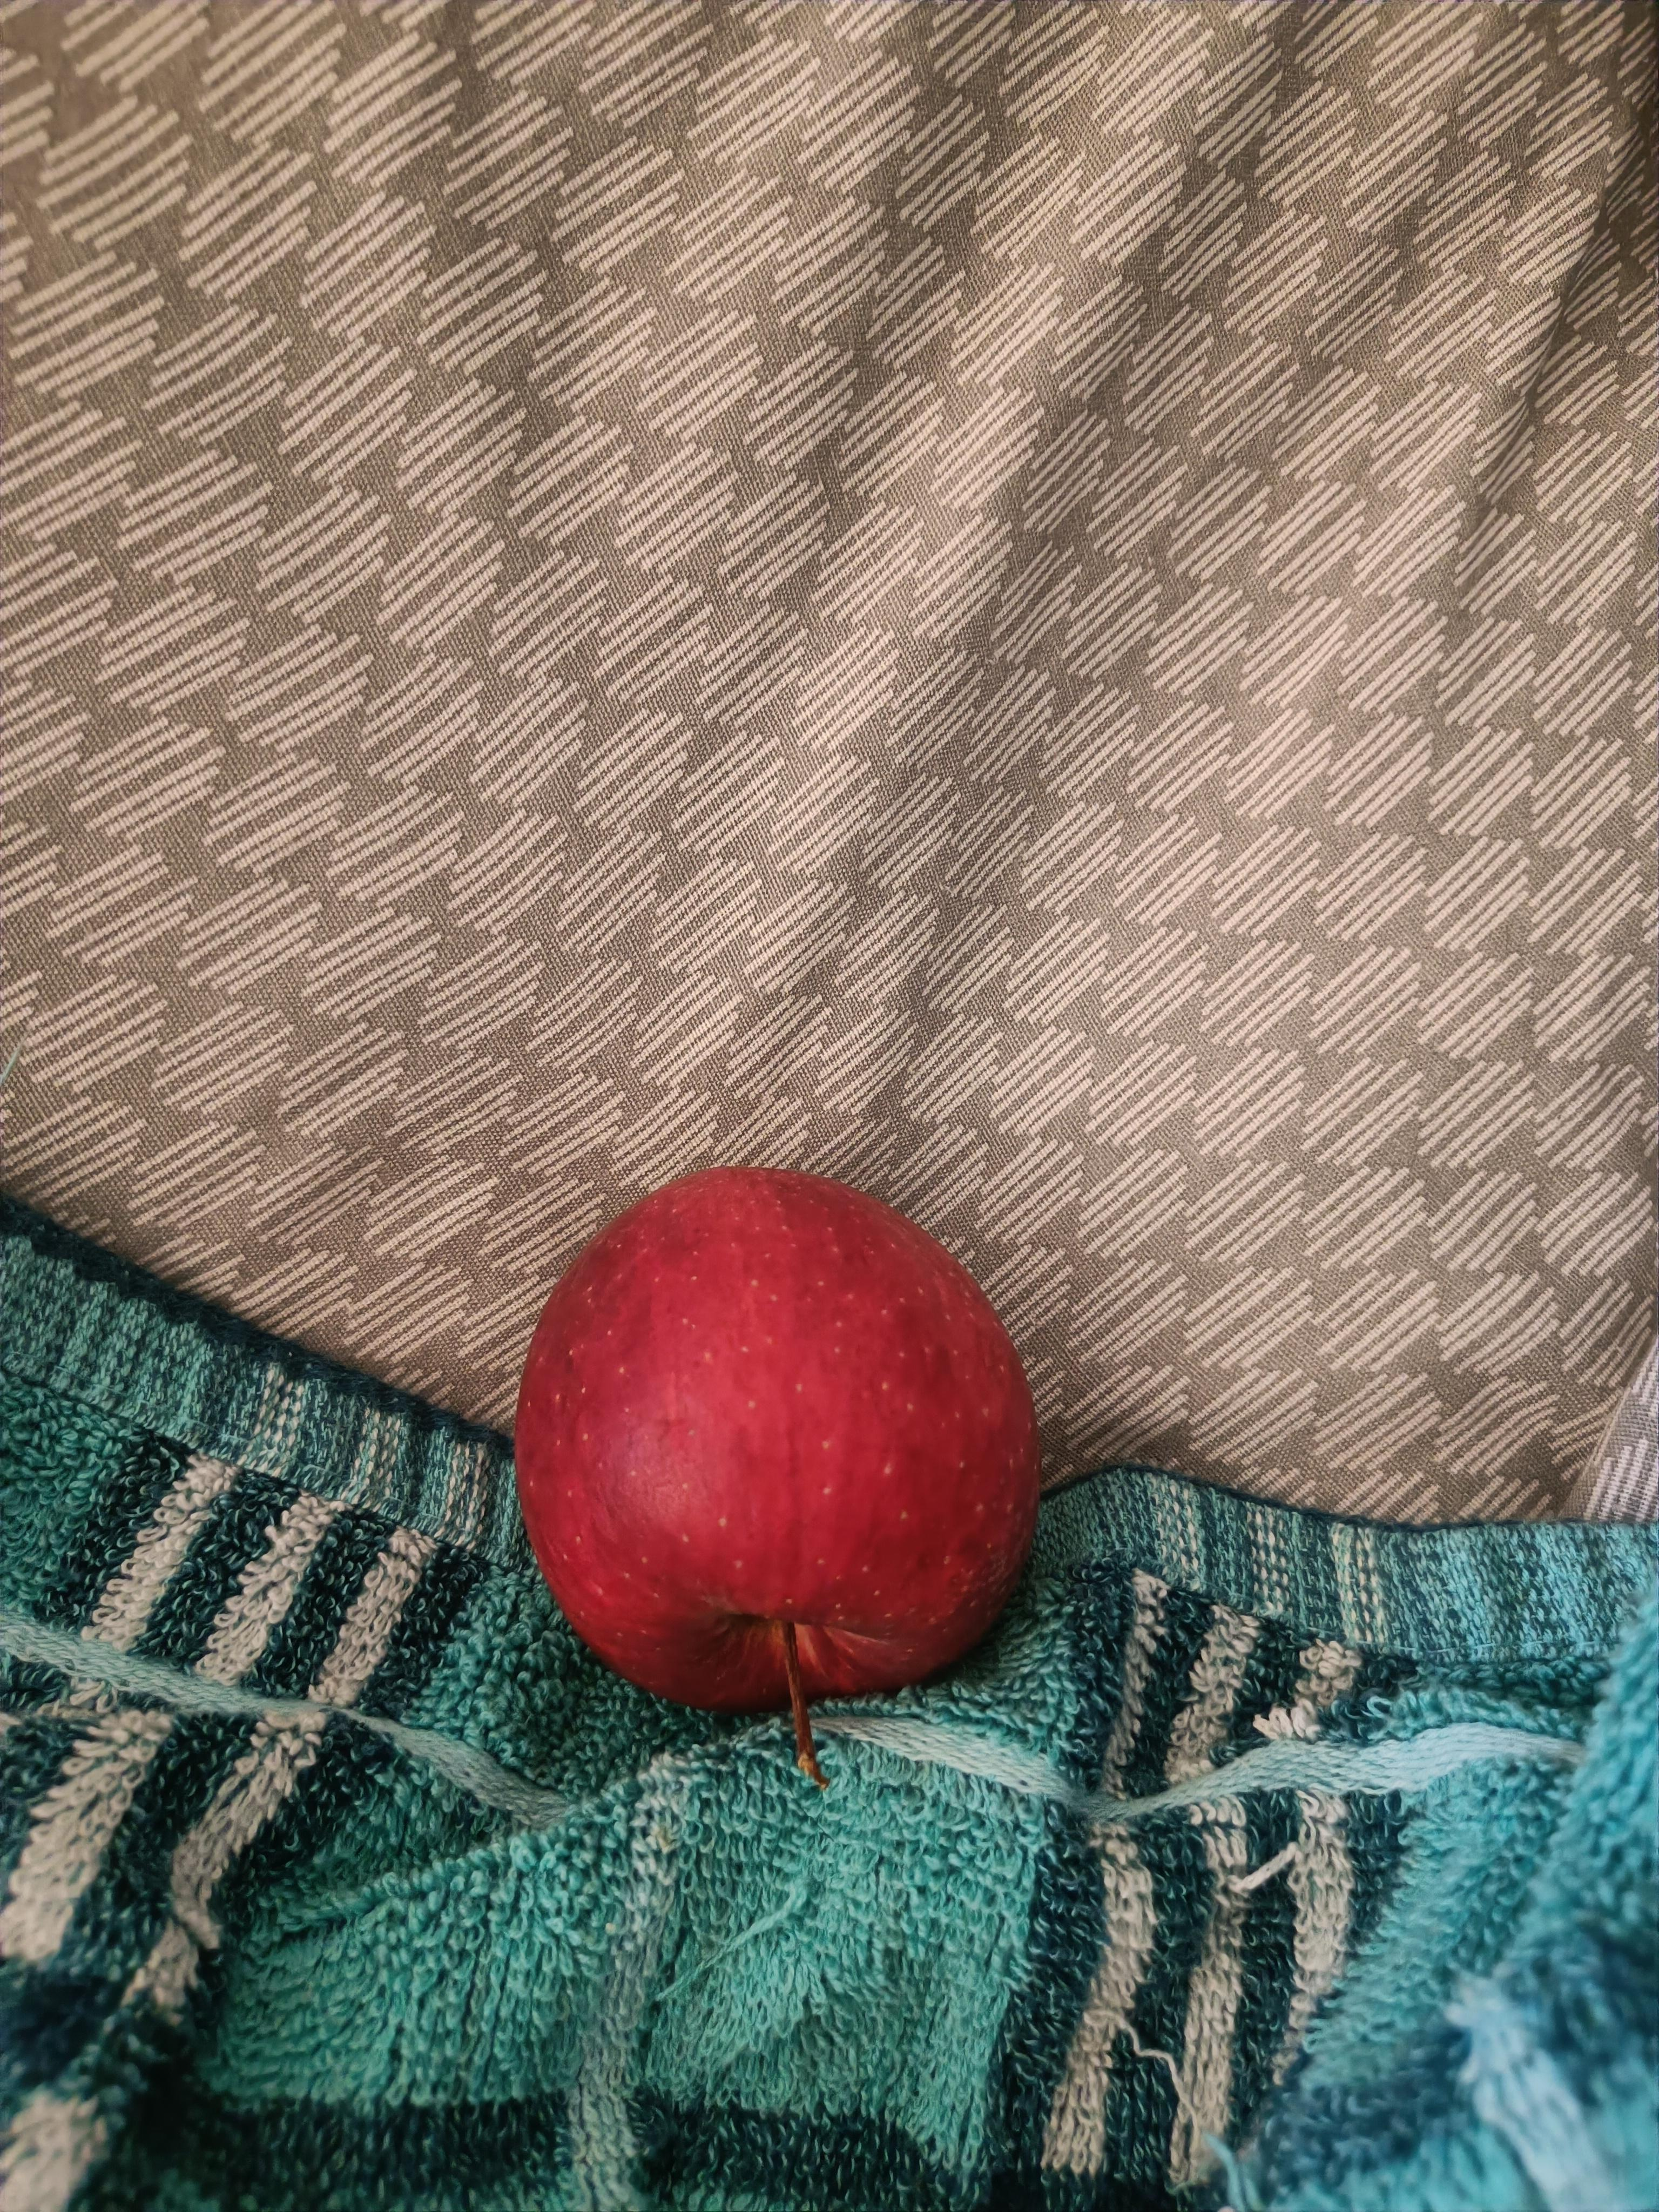Apple: (518, 1132, 1046, 1777)
